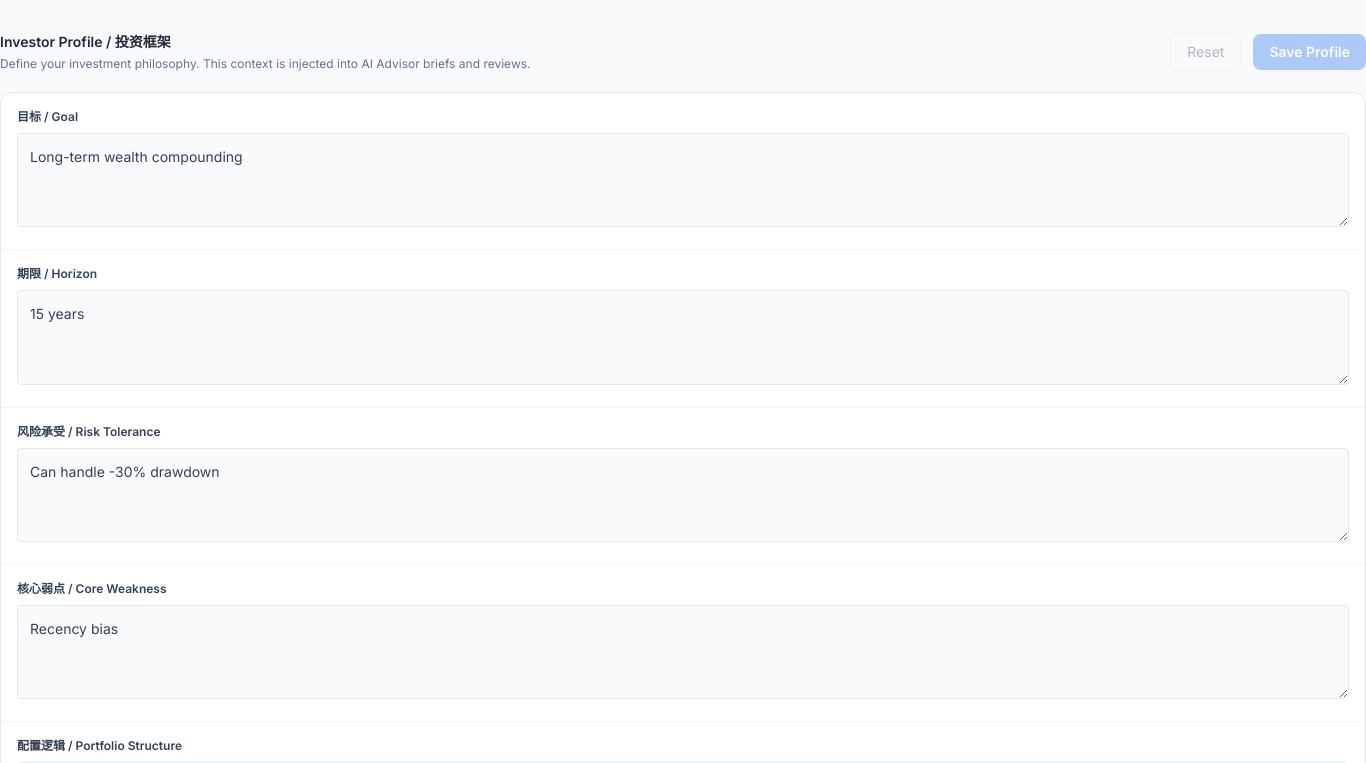
Test case: InvestorProfileEditor › shows save error when updateProfile fails
Clear the text box showing "Long-term wealth compounding" at (683, 180), box [17,133,1349,227]
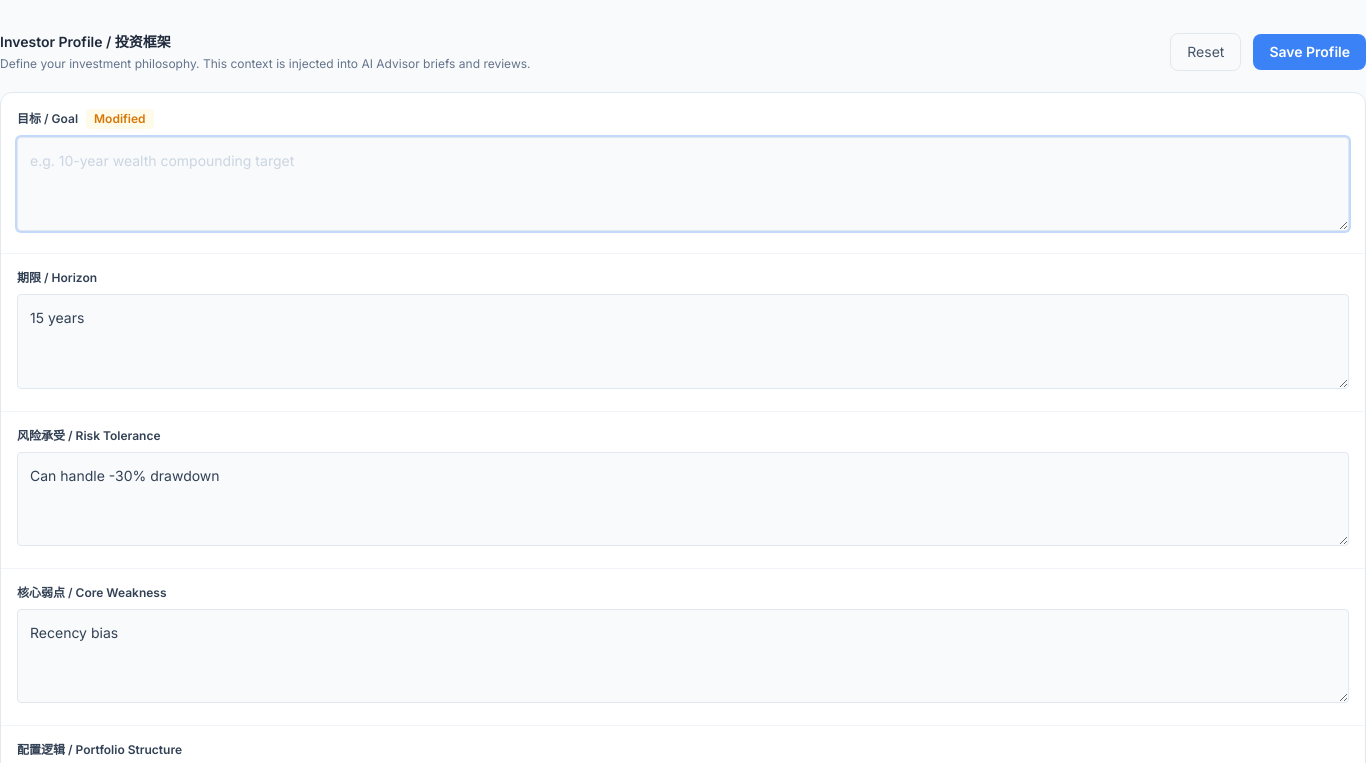
Type "Changed" into the text box showing "Long-term wealth compounding".
click(683, 184); type("Changed")  # box [17,137,1349,231]
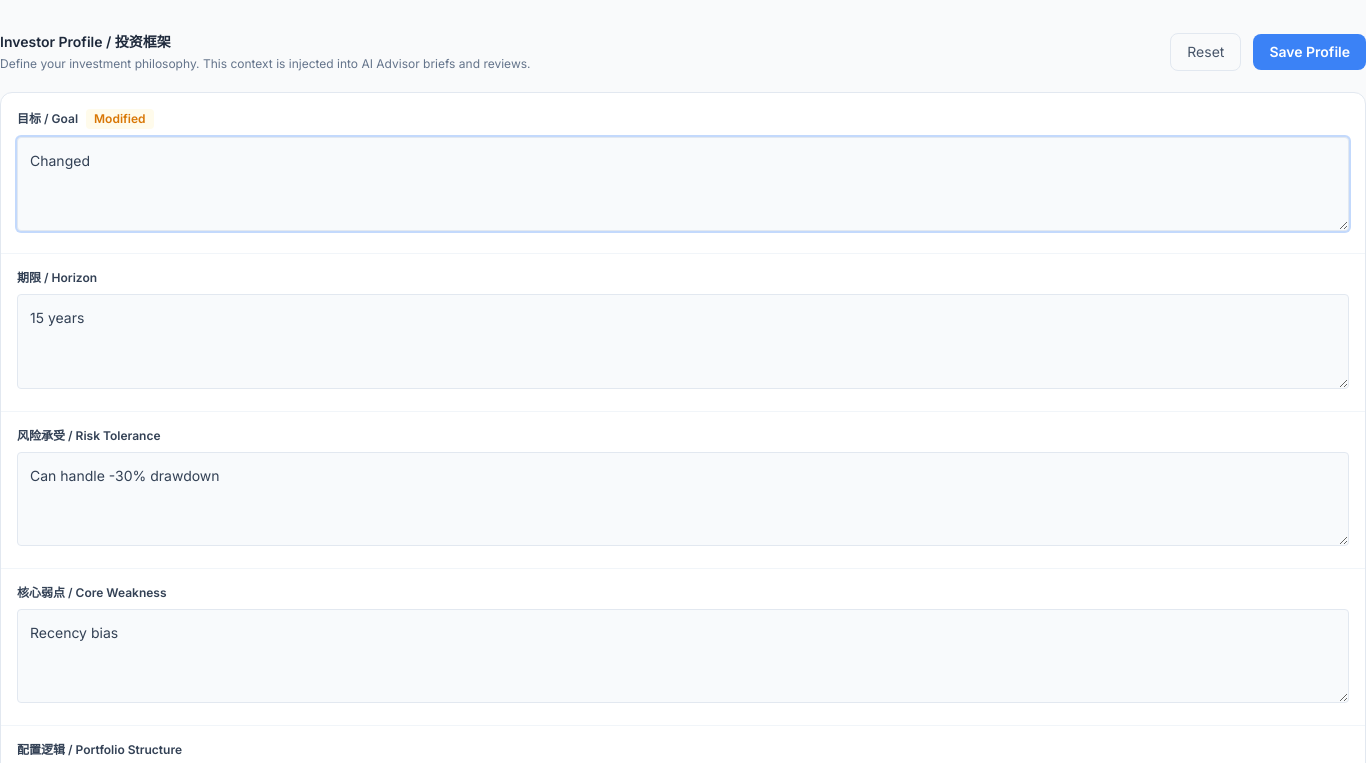
Click the button "Save Profile".
click(1310, 52)  # box [1253,34,1365,70]
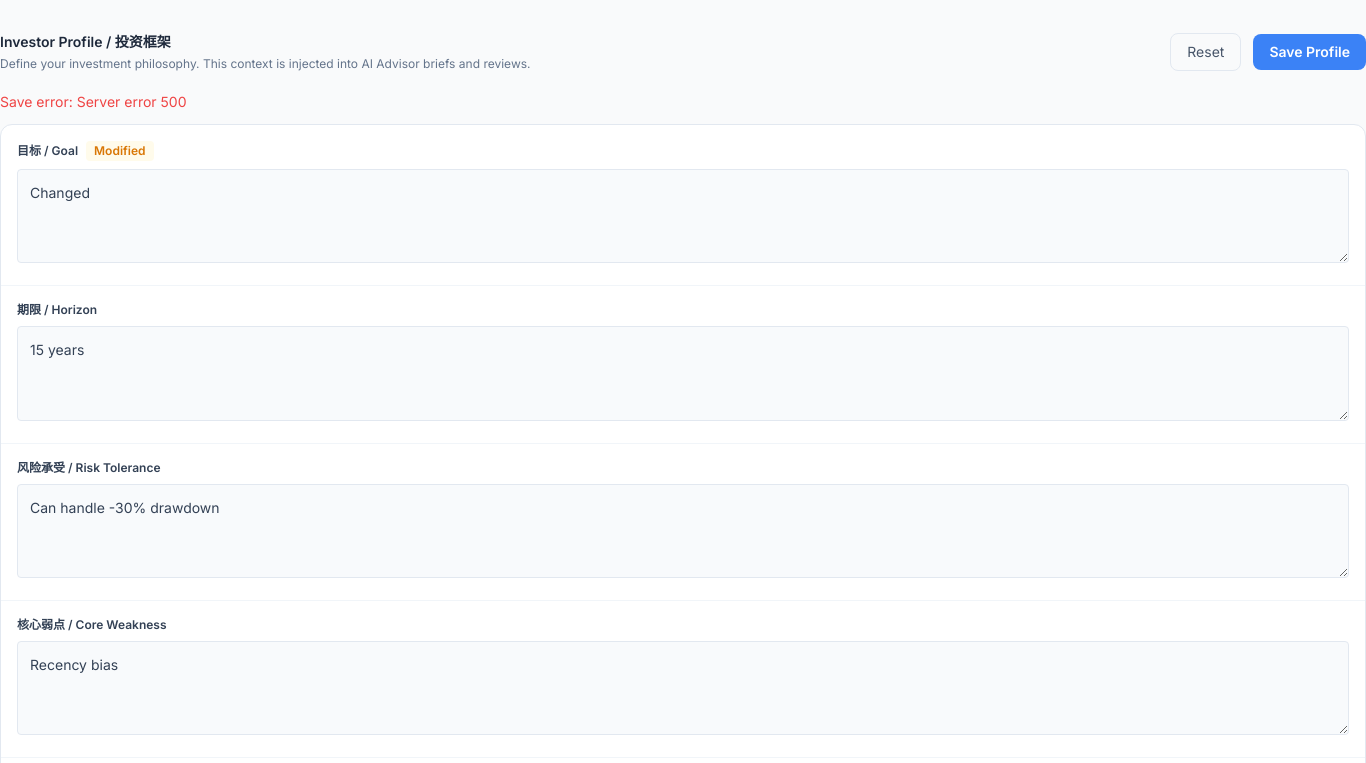
expect the text "Save error: Server error 500" is shown: met, box [0,93,186,110]
